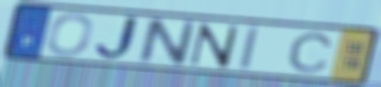C: (286, 31, 337, 74)
I: (237, 24, 262, 72)
J: (92, 15, 146, 62)
N: (136, 17, 199, 67), (187, 22, 242, 70)
O: (44, 12, 96, 58)
